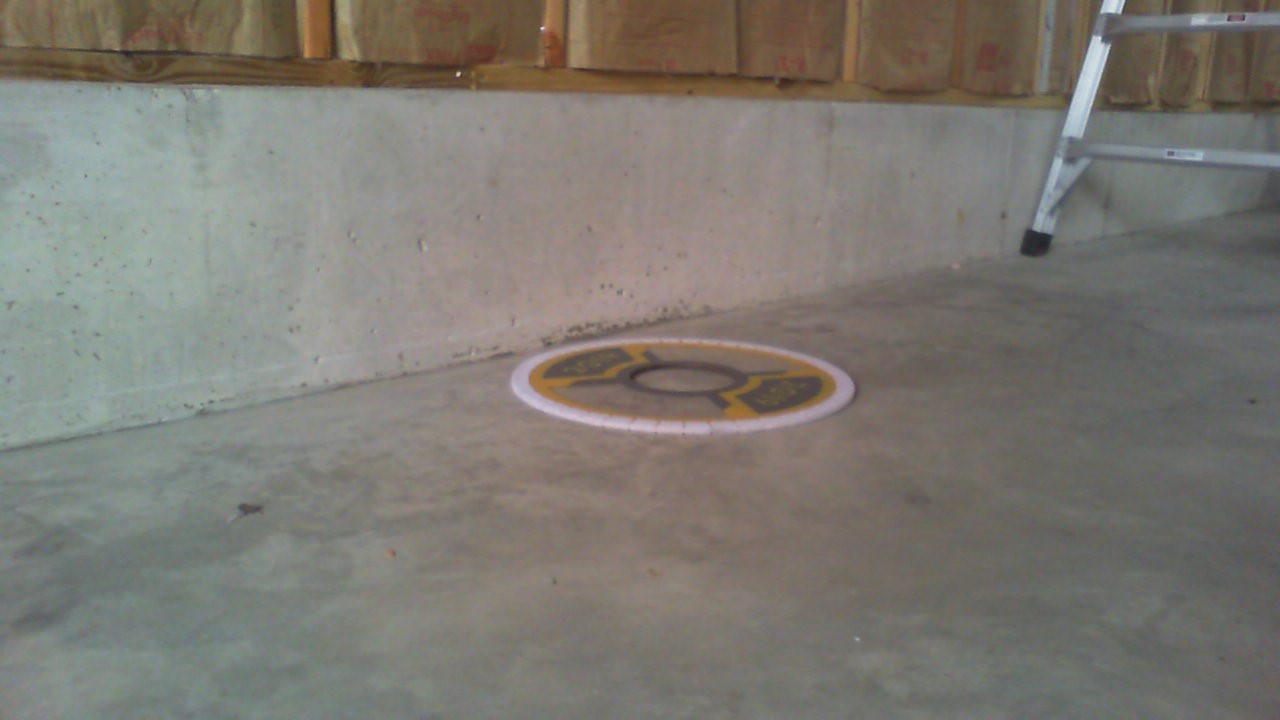Hatch: (509, 337, 855, 436)
